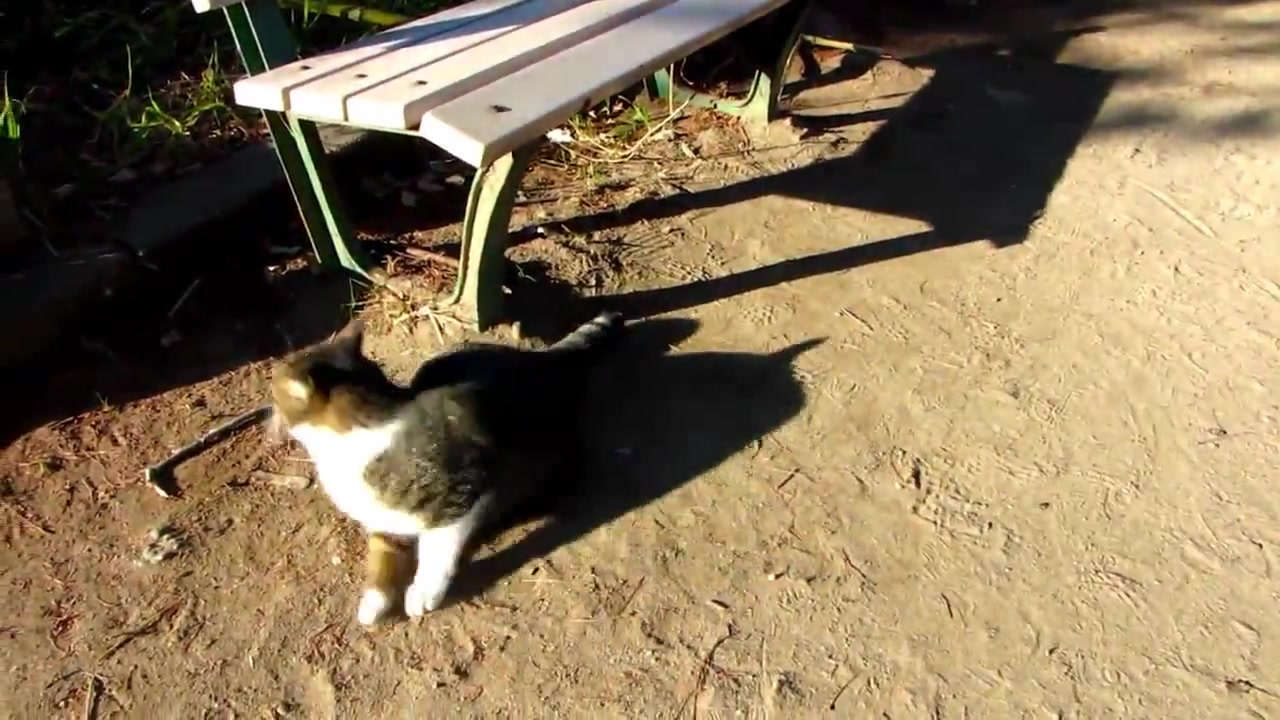cat: (266, 307, 631, 635)
